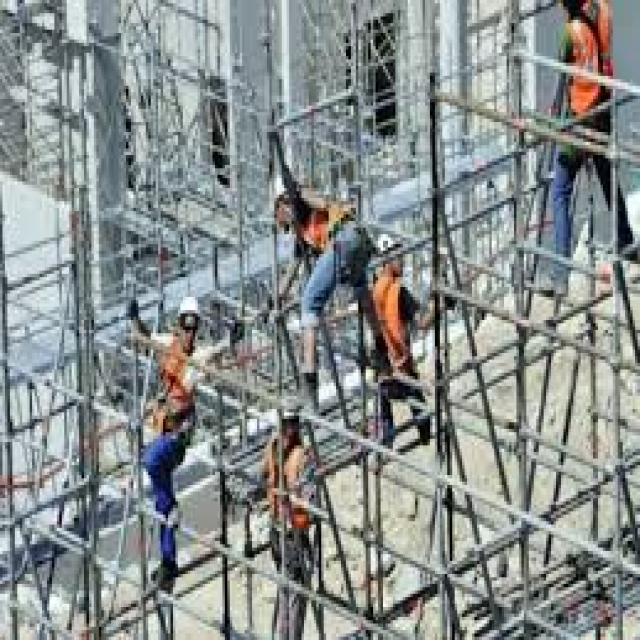Reflective-Jacket: (141, 330, 207, 458), (551, 4, 618, 126), (363, 270, 420, 386)
Safety-Helmet: (383, 558, 440, 614), (368, 228, 410, 274), (170, 287, 208, 333)
